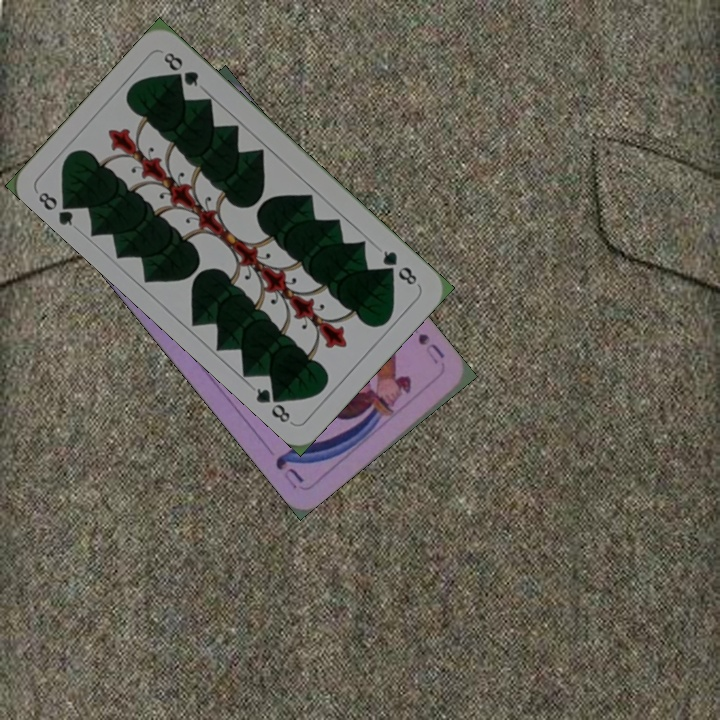G8: (34, 187, 79, 229), (378, 246, 420, 288)
SU: (413, 329, 447, 367)
